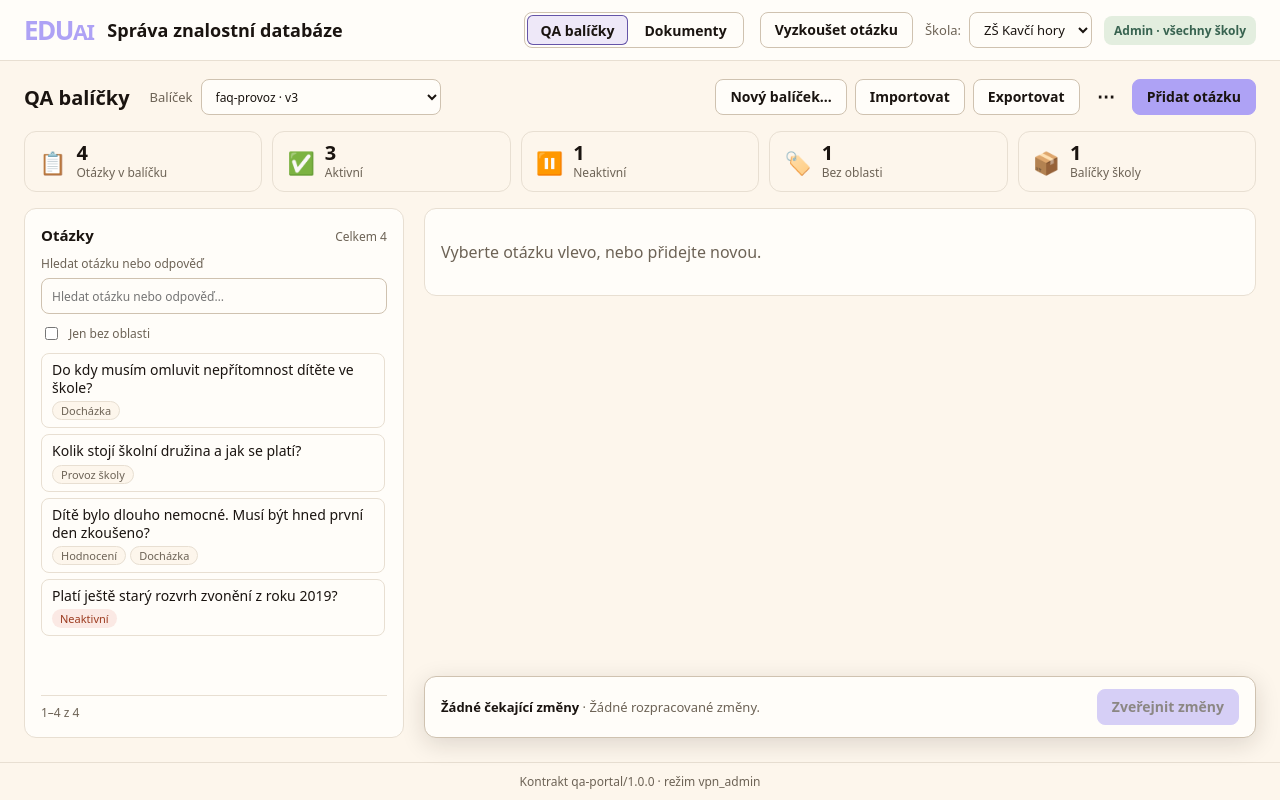
the debug panel opens the rest of the portal › asks to choose a pack when the school has none and leaves the drawer and the page as they are
The width and height of the screenshot is (1280, 800).
Check: the text "Do kdy musím omluvit nepřítomnost dítěte ve škole?" is shown, box [52,361,374,397]
Select "ZŠ Jedovnice" in the dropdown labelled "Škola" at (1030, 30), box [969,12,1092,48]
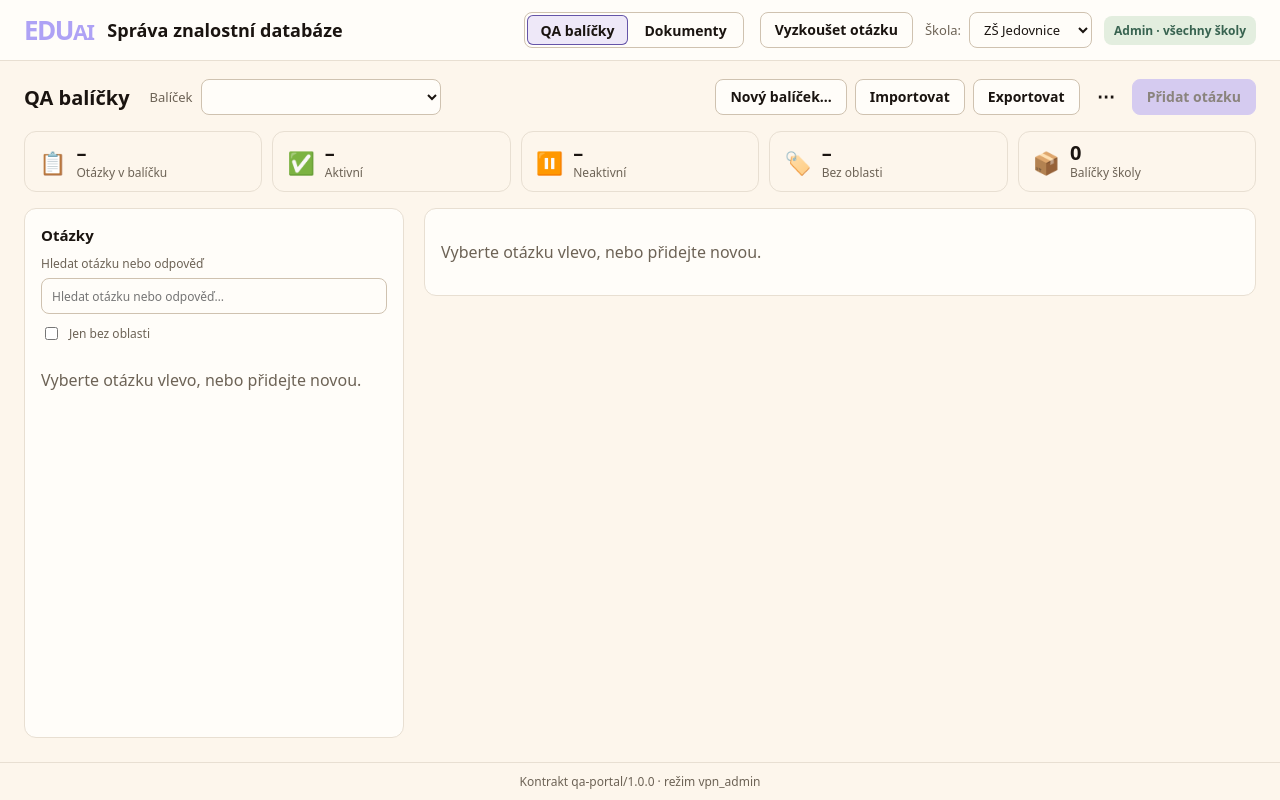
Click the button "Vyzkoušet otázku" at (836, 30), box [760,12,913,48]
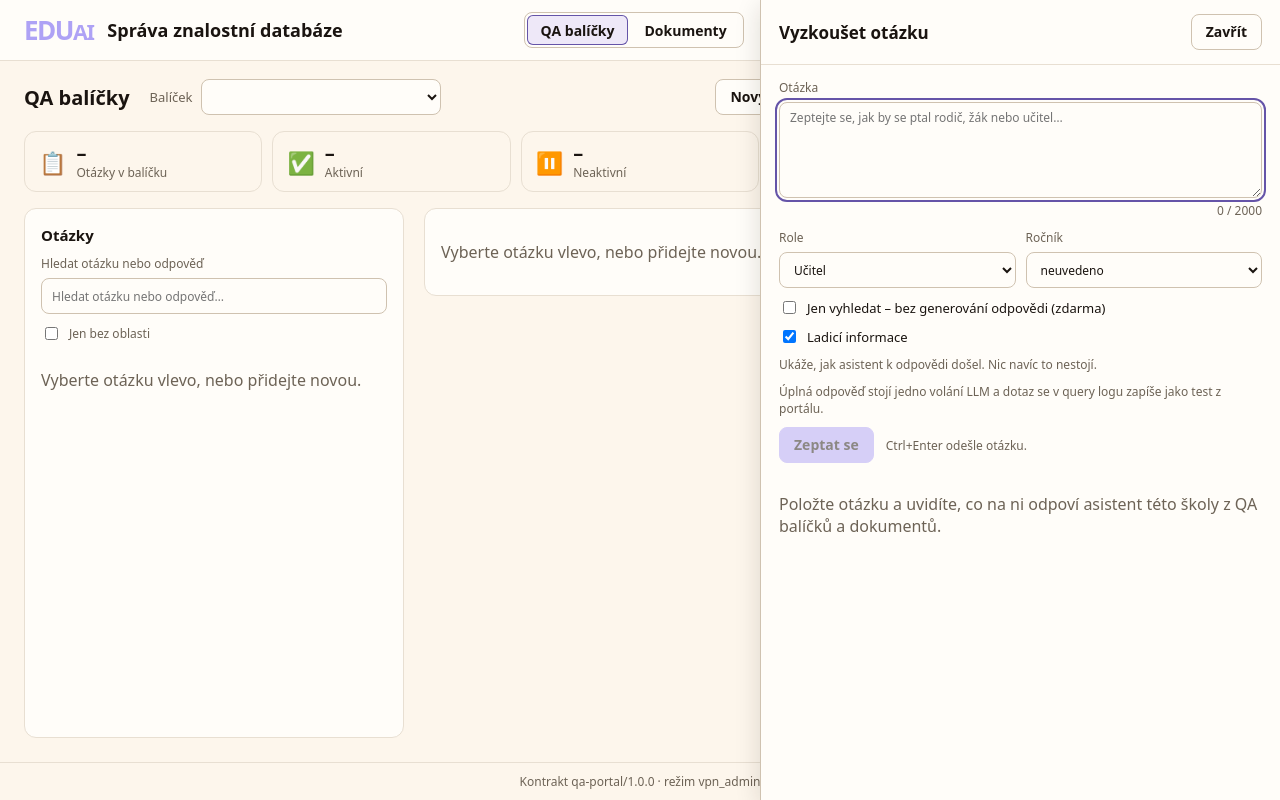
Type "Kdy začíná školní rok?" into the text box labelled "Otázka" at (1020, 150), box [779,102,1262,198]
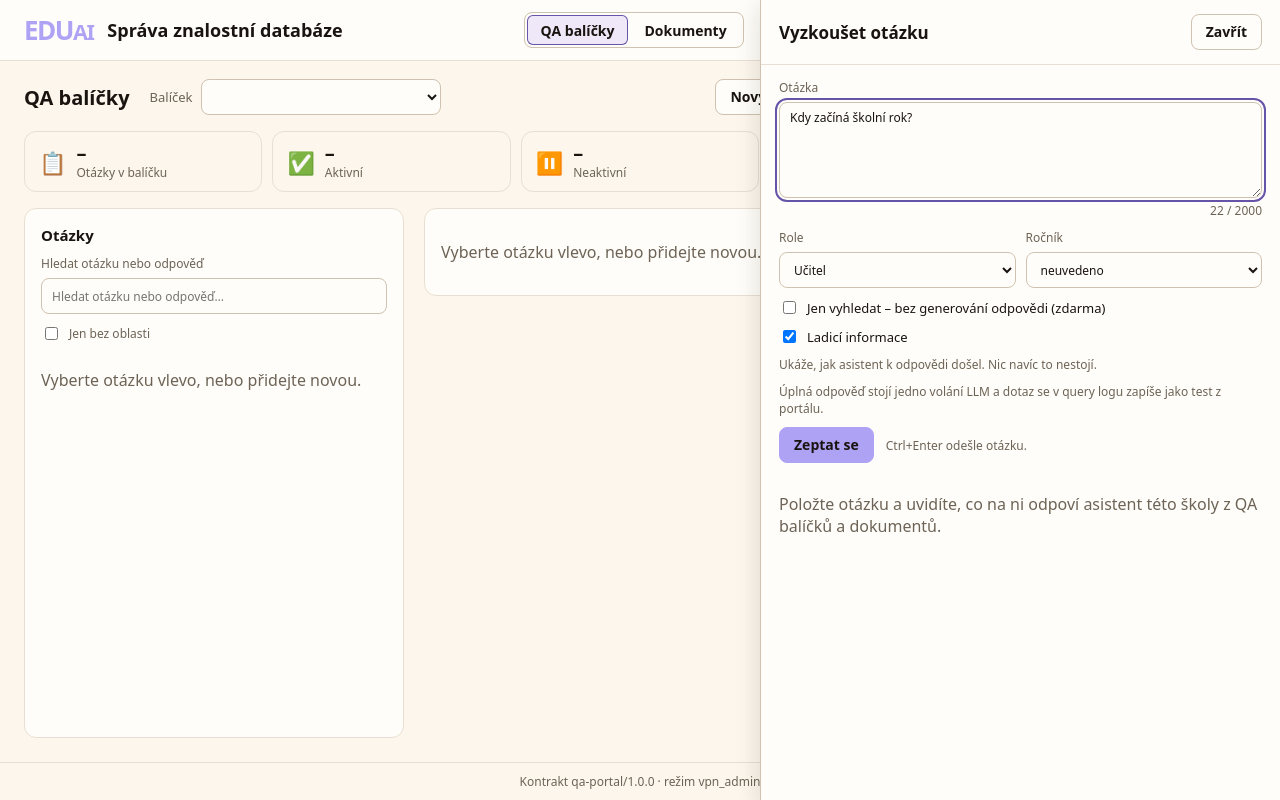
Click the button "Zeptat se" at (826, 445), box [779,427,874,463]
(page scrolled)
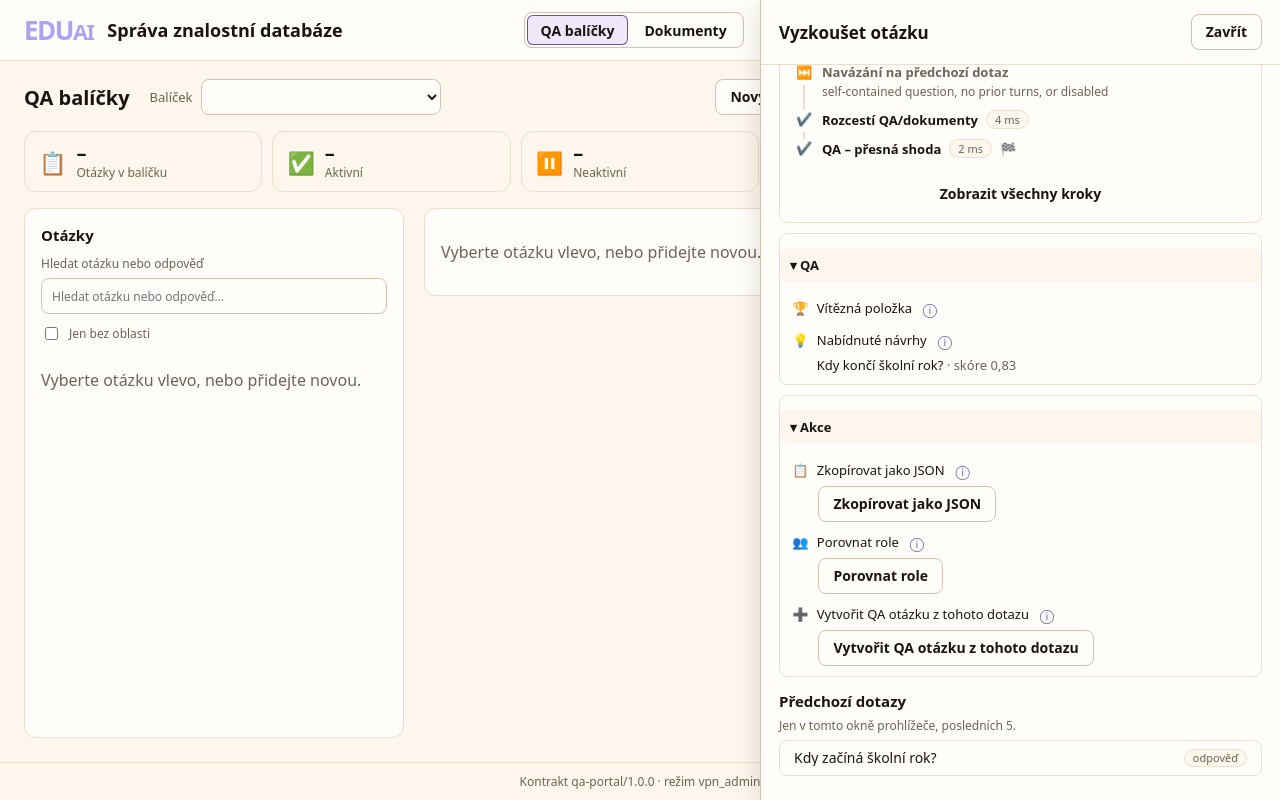
Click the button "Vytvořit QA otázku z tohoto dotazu" at (956, 648), box [818,630,1094,666]
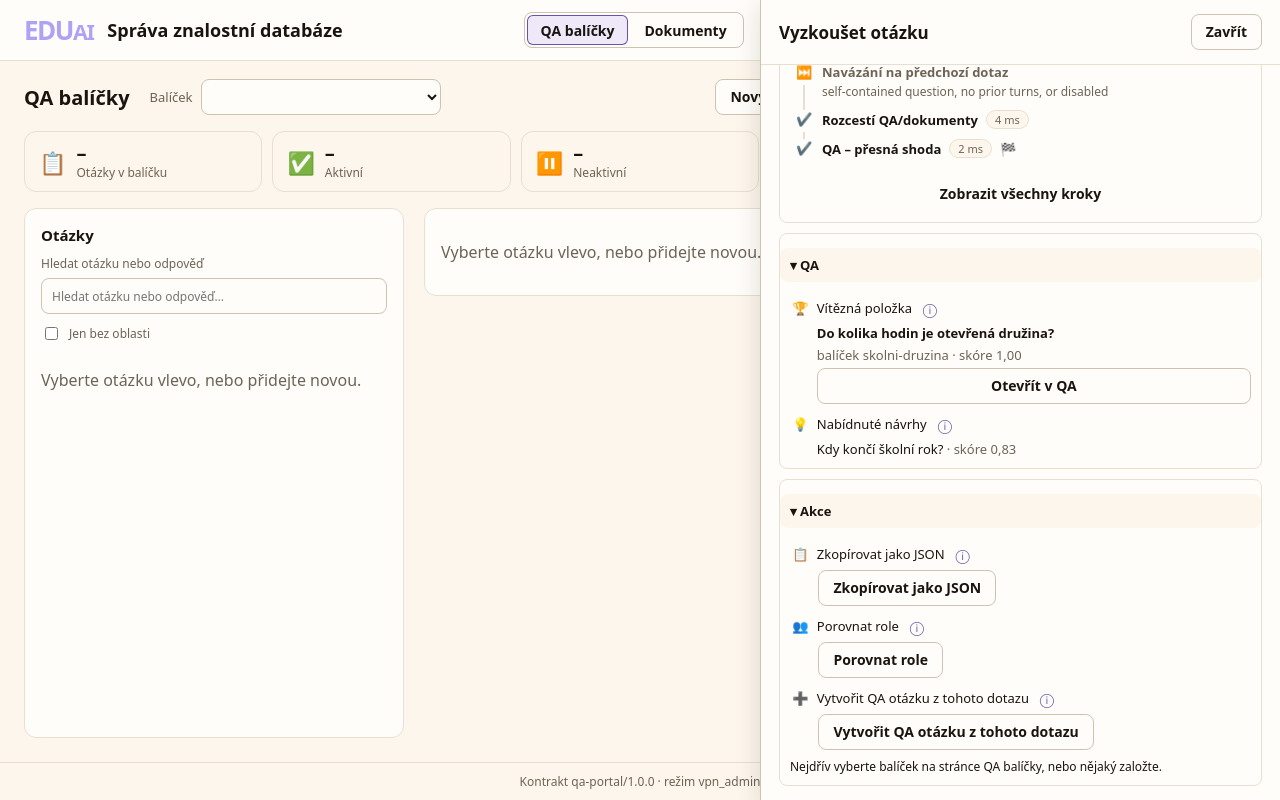
Check: the dialog "Vyzkoušet otázku" is shown, box [760,0,1279,799]
Check: the text "Nejdřív vyberte balíček na stránce QA balíčky, nebo nějaký založte." is shown, box [790,758,1162,775]
